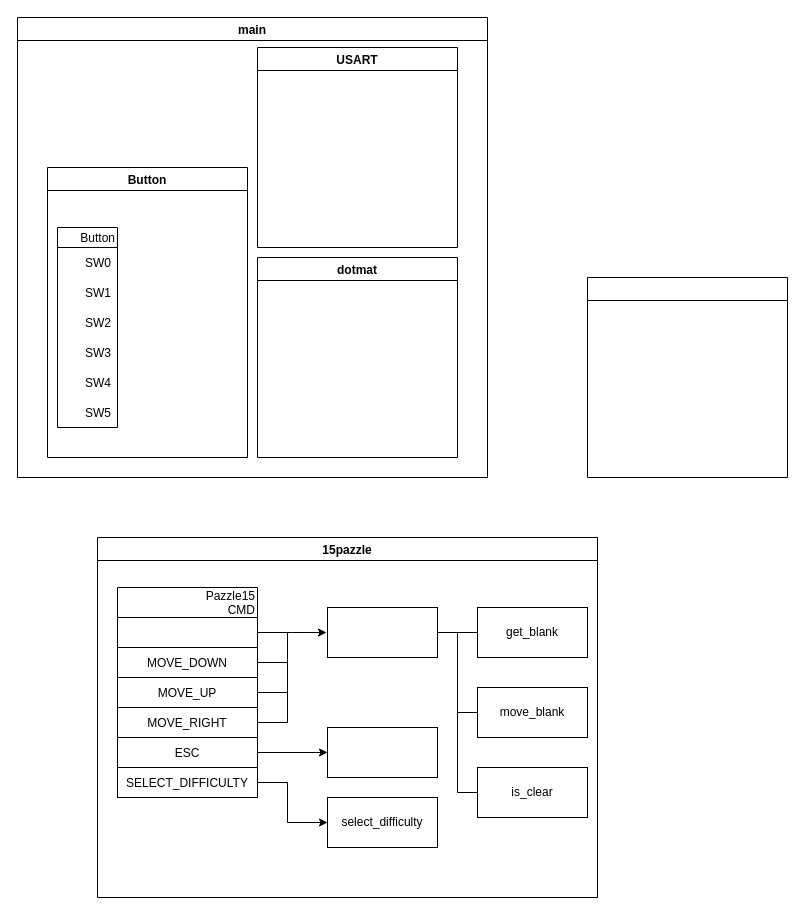
Image size: 805x915. Some labels were removed from this diagram. Each missing label, with the centre of its shape:
"mid_15pazzle" belongs at [687,377].
"MOVE_LEFT" belongs at [187,632].
"pazzle_init" belongs at [382,752].
"pazzle_move" belongs at [382,632].
